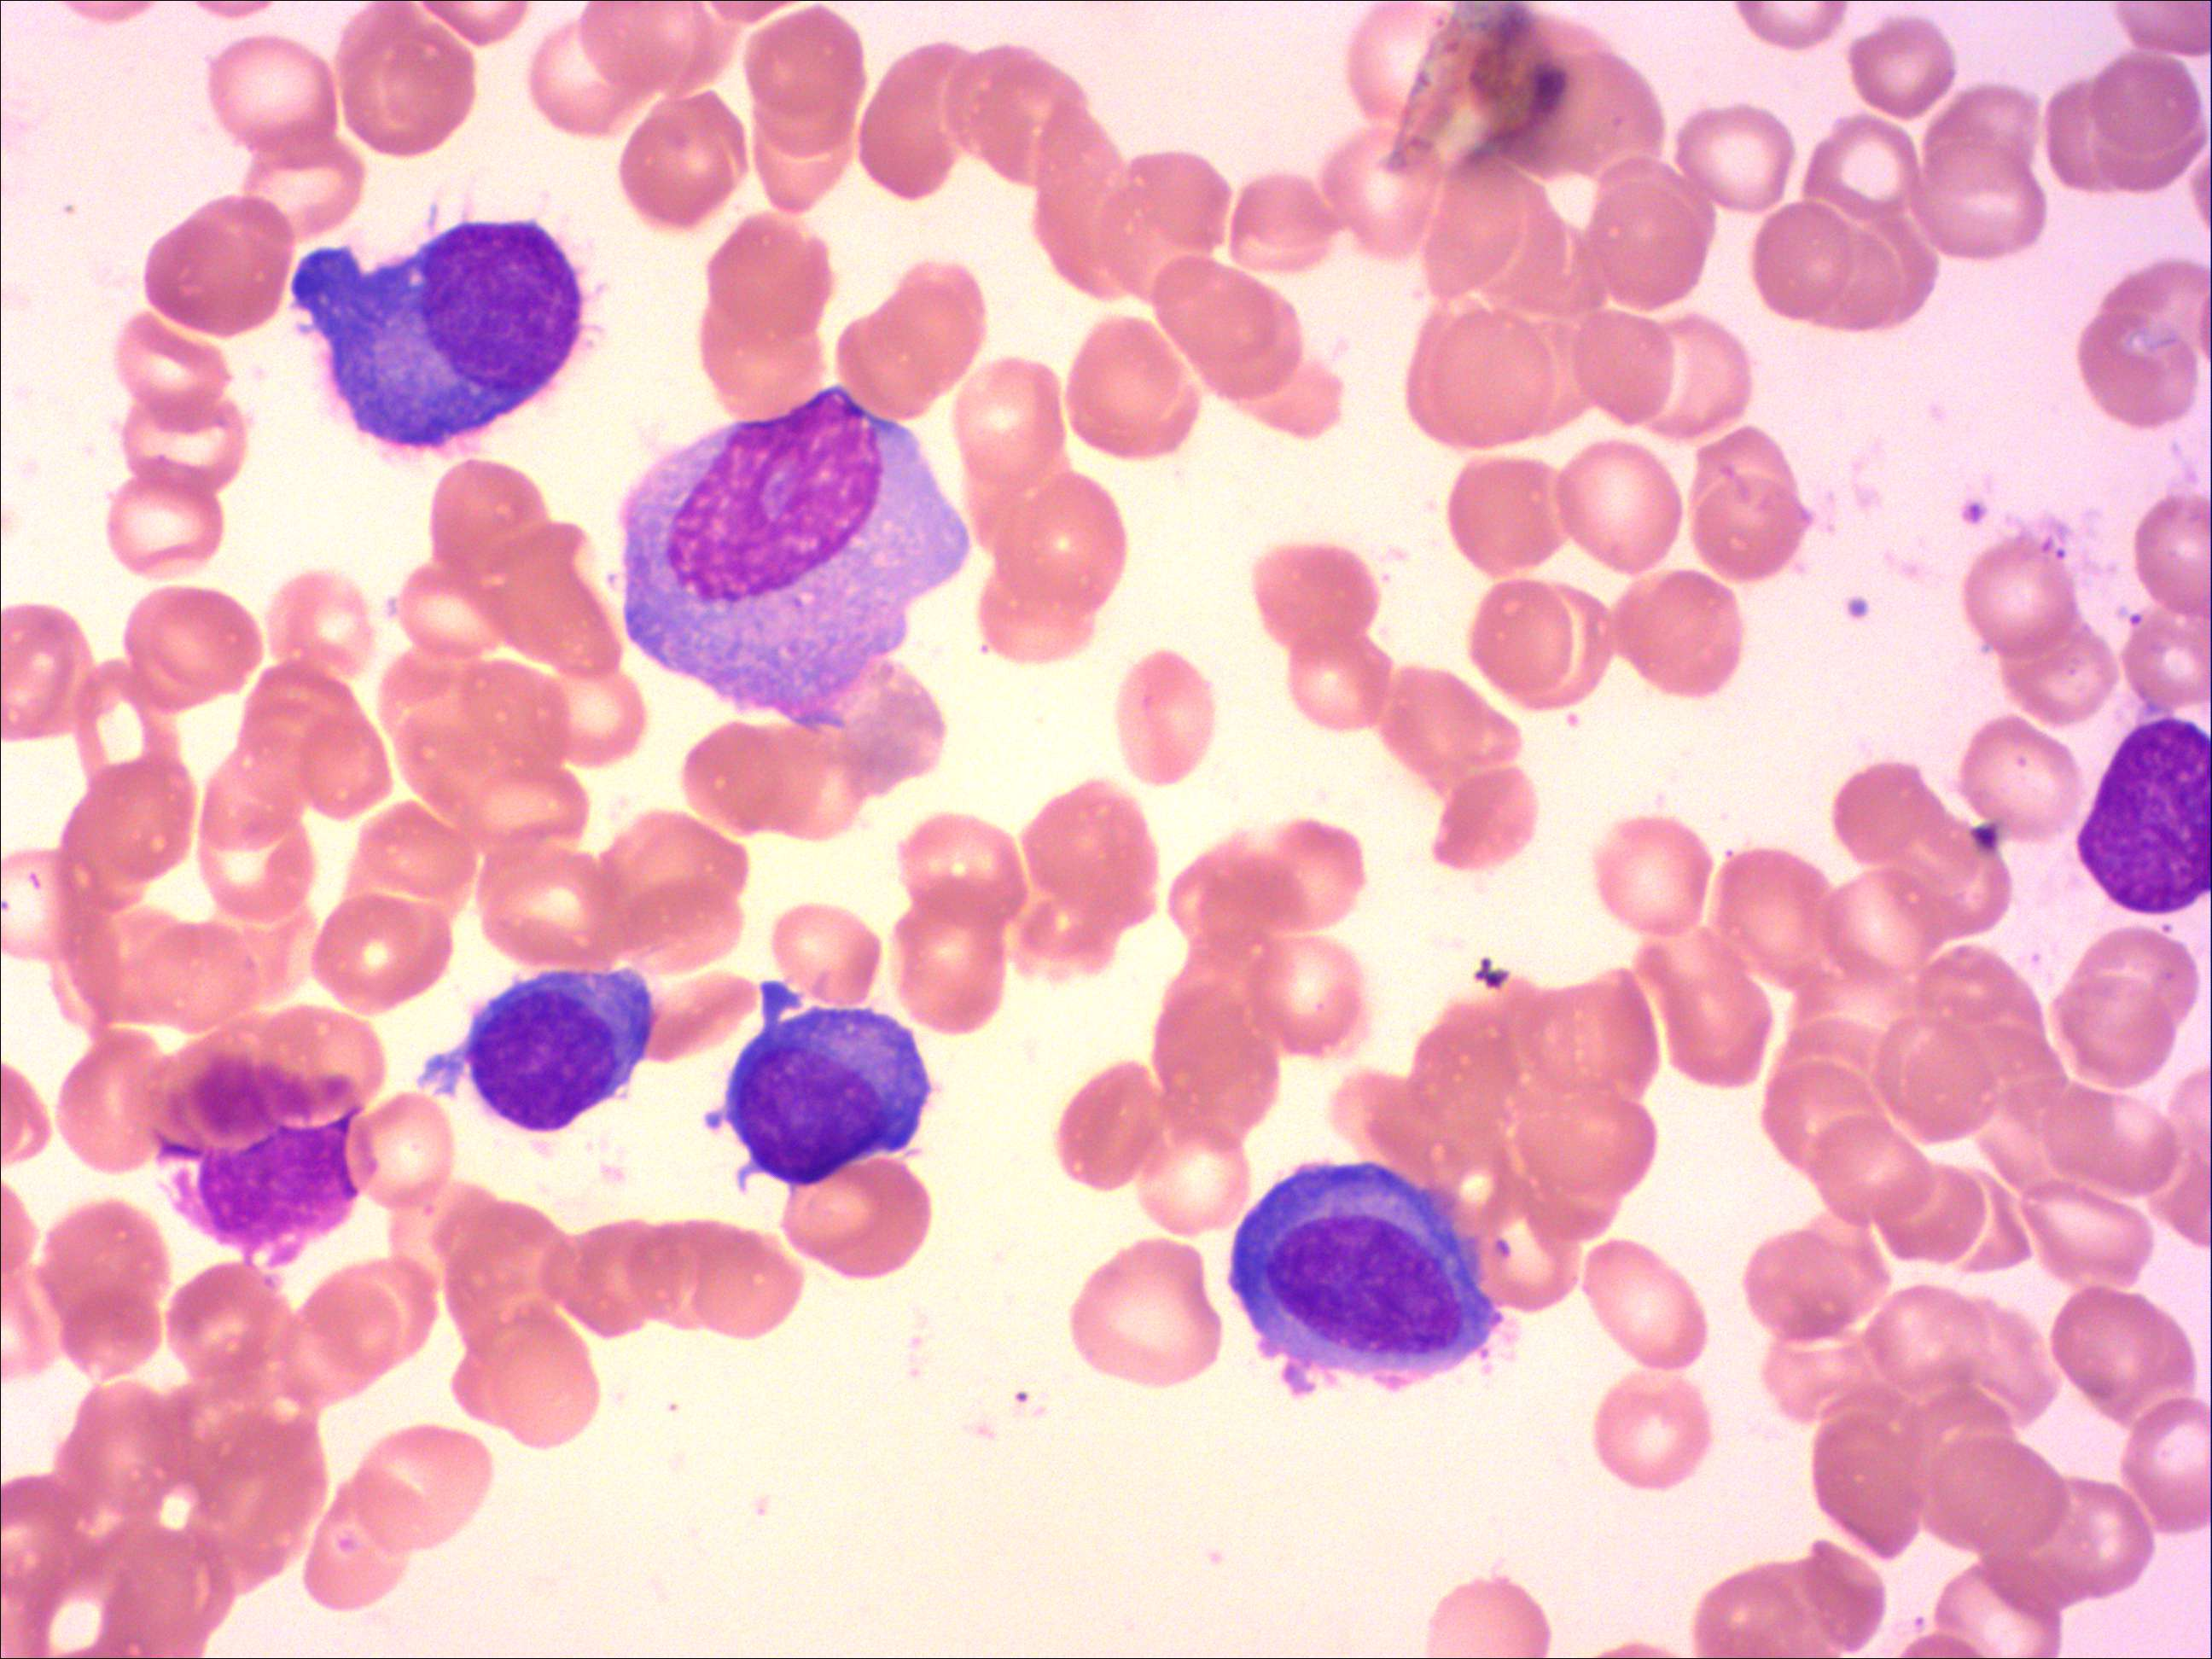51: (284, 209, 589, 460), (1224, 1154, 1514, 1406), (698, 974, 937, 1201), (411, 960, 658, 1140)
x: (2074, 713, 2212, 920)
